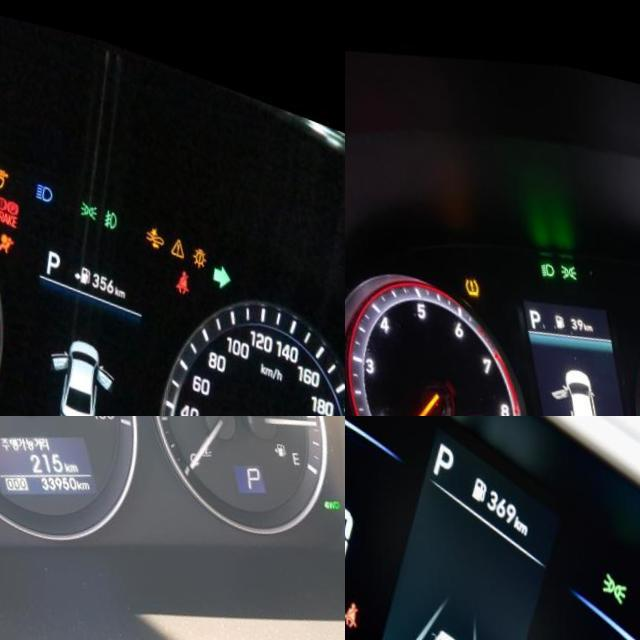Central Warning lamp: (168, 215, 185, 239)
FrontFogLight: (101, 190, 117, 215)
Low beam: (537, 246, 553, 266)
SideLamp: (597, 546, 626, 583), (78, 182, 97, 205), (557, 246, 574, 267)
